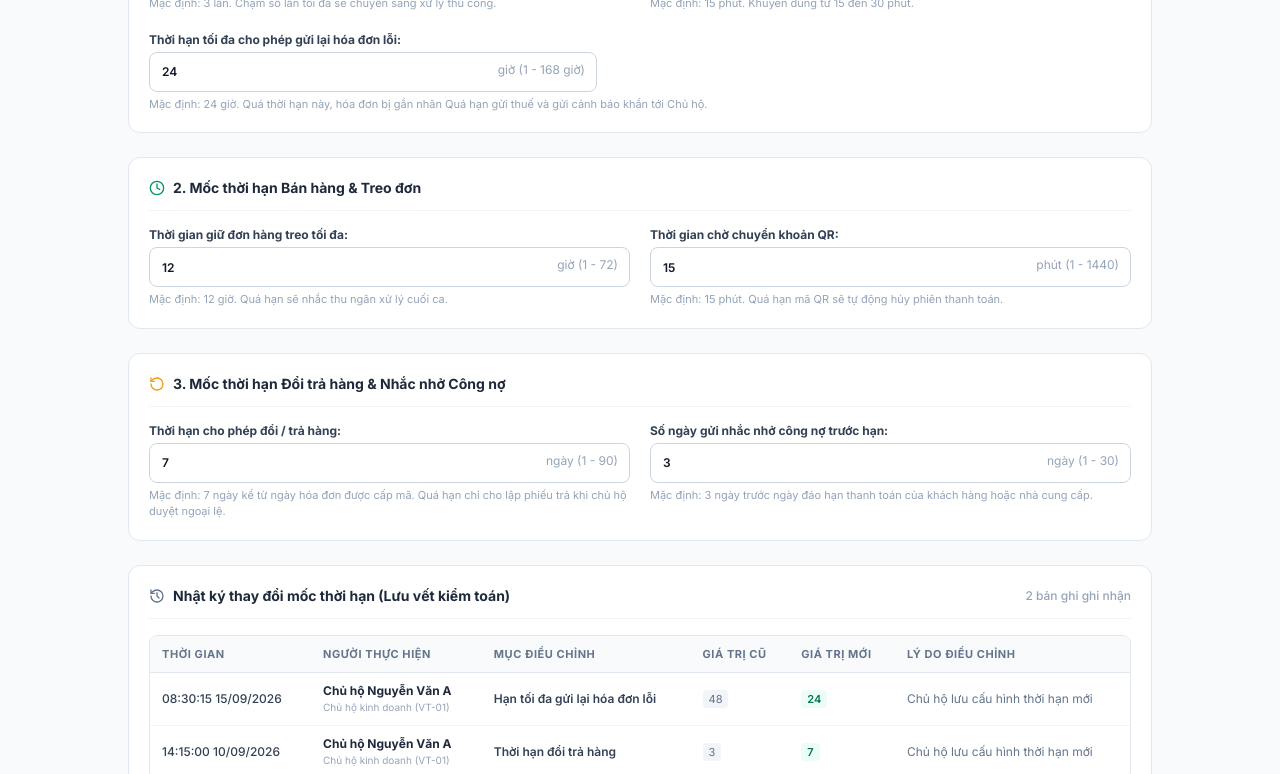
it: Cấu hình các mốc thời hạn nghiệp vụ của hộ › TC-07: Khôi phục cấu hình về mặc định khuyến nghị có hộp thoại xác nhận
(page scrolled)
Note: Change a field first
Step 1. Replace the text in the number field named "Thời hạn cho phép đổi / trả hàng" with "21" → (390, 462), box [149,442,630,482]
(page scrolled)
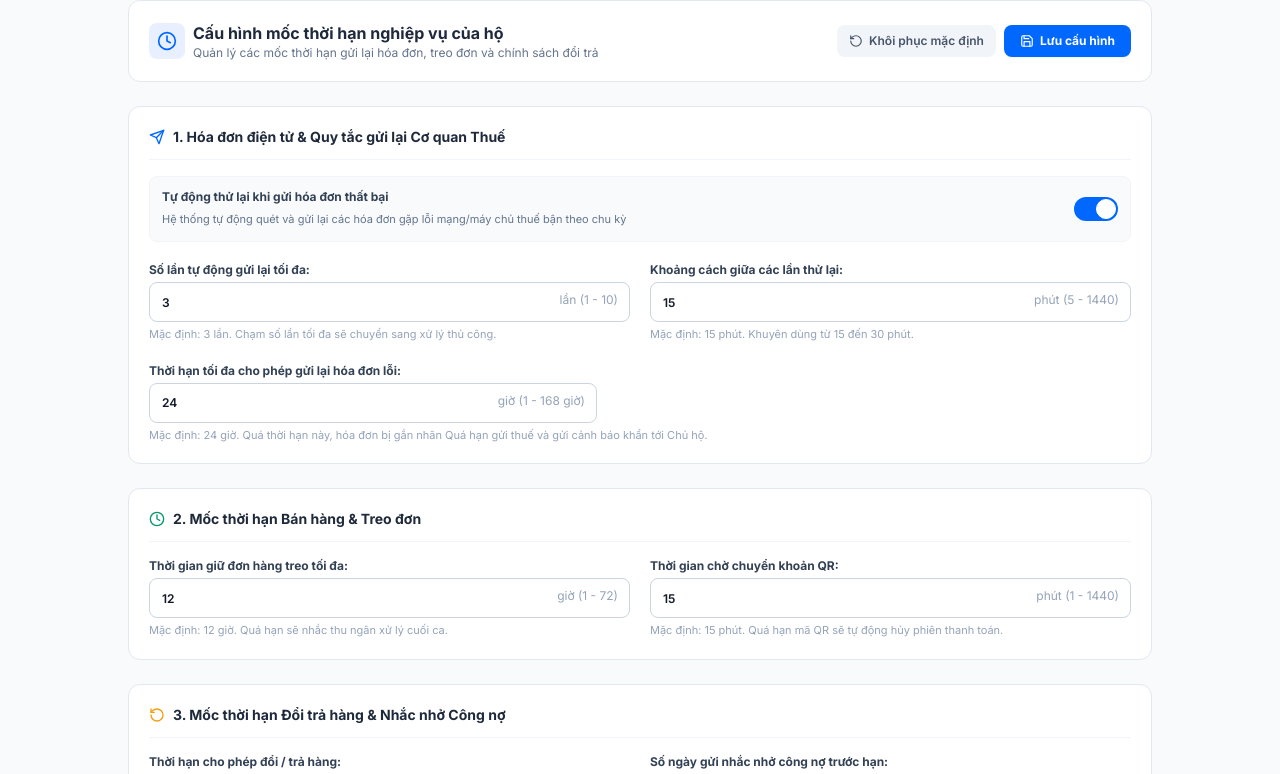
Step 2. Click the button "Khôi phục mặc định" → (917, 41), box [837,25,996,57]
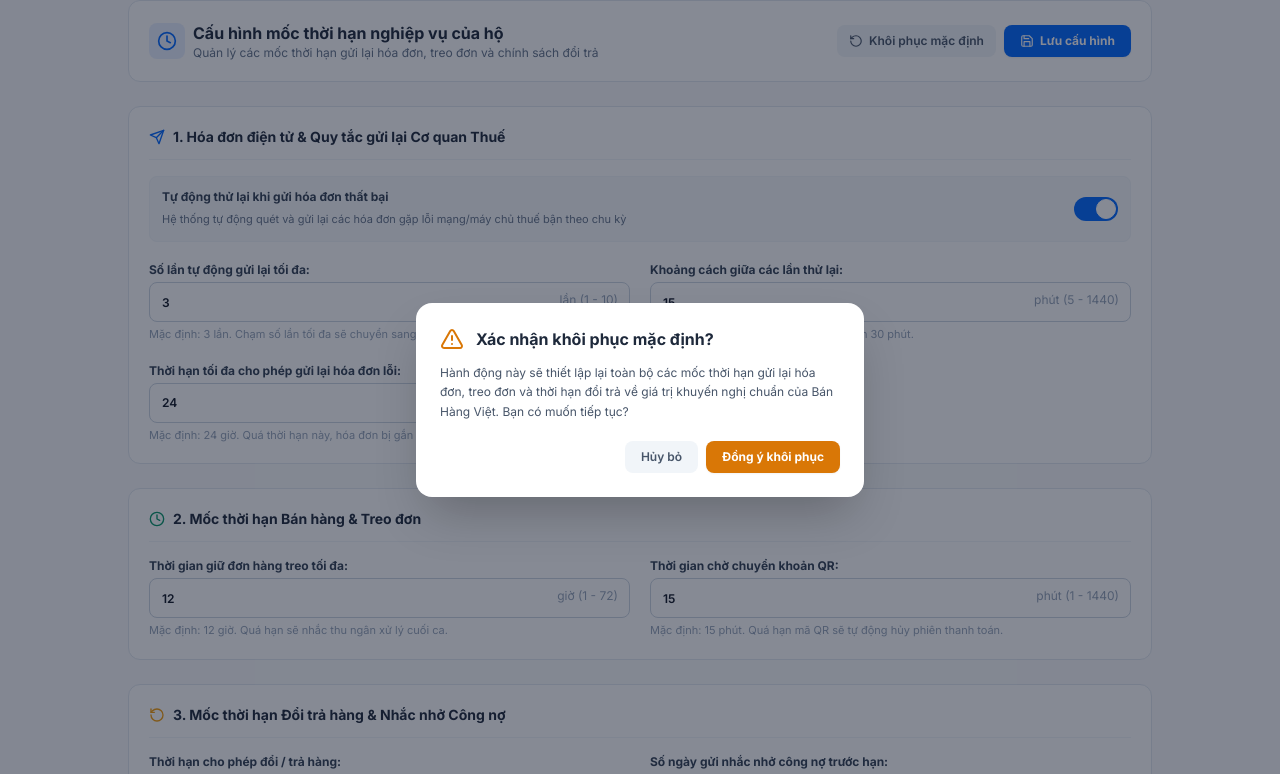
Result: the heading "Xác nhận khôi phục mặc định?" is shown at [476,327,714,351]
Result: the text "Hành động này sẽ thiết lập lại toàn bộ các mốc thời hạn" is shown at [440,365,833,419]
Note: Cancel first
Step 3. Click the button "Hủy bỏ" → (662, 457), box [625,441,698,473]
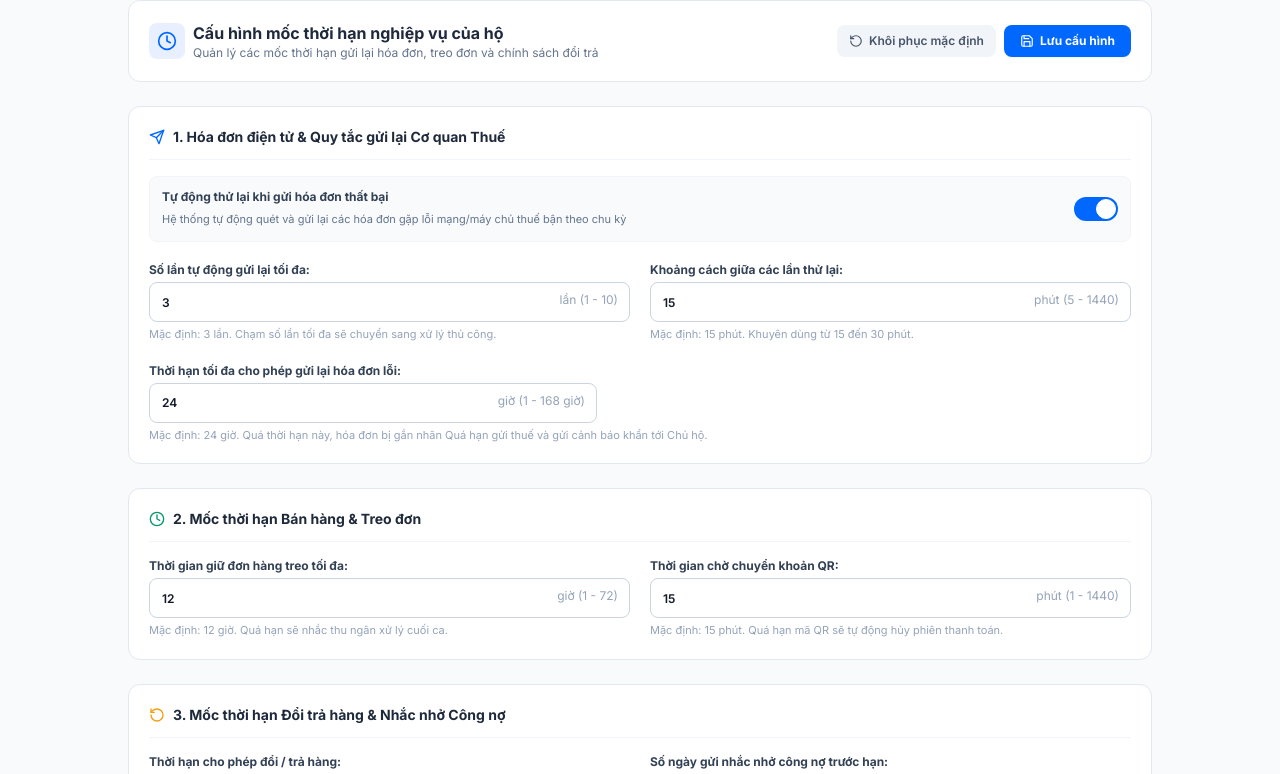
Result: the heading "Xác nhận khôi phục mặc định?" is gone
Note: Open again and confirm
Step 4. Click the button "Khôi phục mặc định" → (917, 41), box [837,25,996,57]
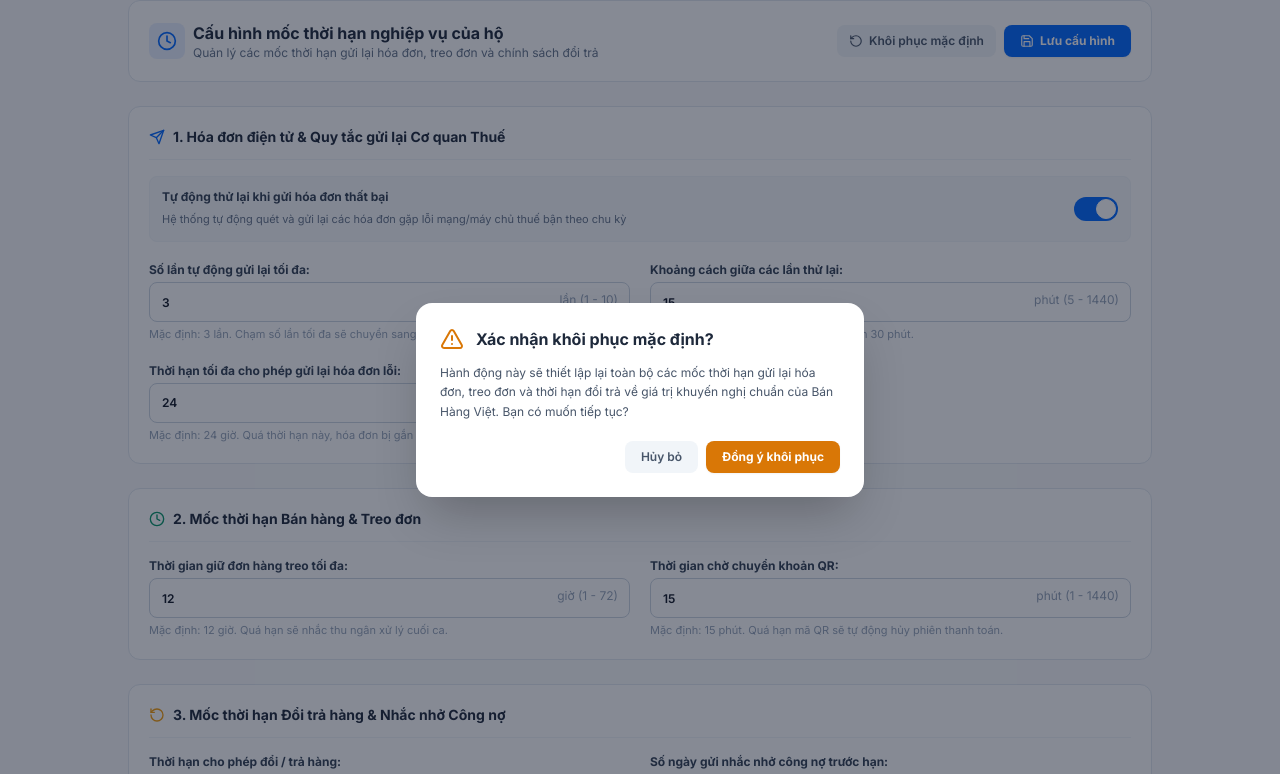
Step 5. Click the button "Đồng ý khôi phục" → (773, 457), box [706,441,840,473]
(page scrolled)
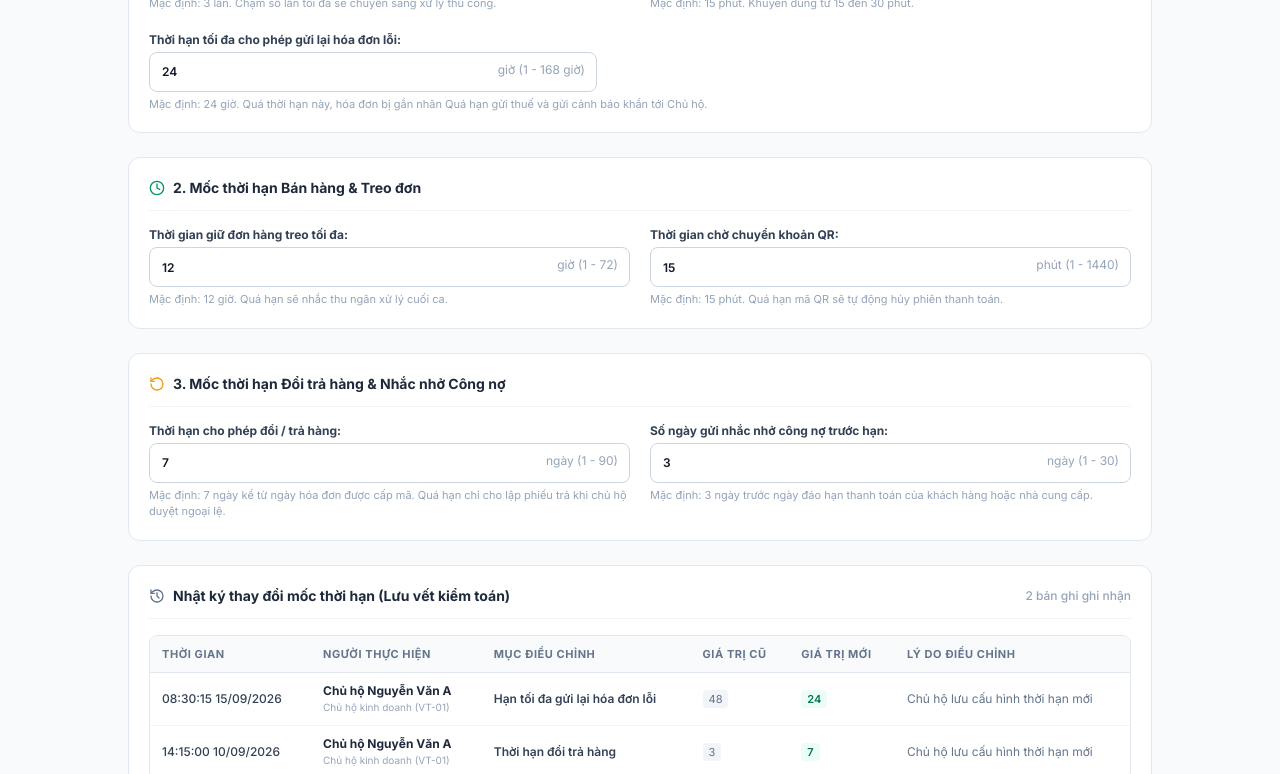
Result: the heading "Xác nhận khôi phục mặc định?" is gone
Result: the number field named "Thời hạn cho phép đổi / trả hàng" holds "7" at [149,442,630,482]
